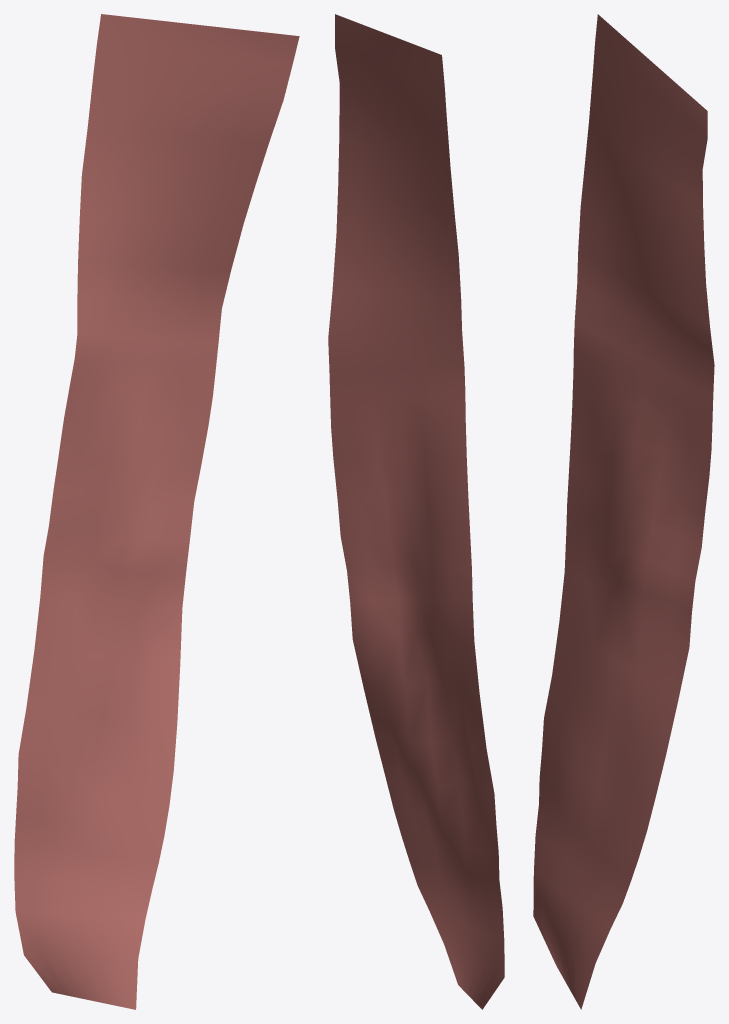
3 views of the same model, side by side, from view 1: azimuth 30°, elevation 25°; view 2: azimuth 150°, elevation 25°; view 3: azimuth 330°, elevation 25° (orthographic). The views are drawn at different scales.
Parts seen in each view (by area): view 1: ZA_0bb646aa8e1115d3; view 2: ZA_0bb646aa8e1115d3; view 3: ZA_0bb646aa8e1115d3.
Part boxes in pixels (x1=…): ZA_0bb646aa8e1115d3: x1=14, y1=14, x2=299, y2=1009; ZA_0bb646aa8e1115d3: x1=328, y1=14, x2=504, y2=1009; ZA_0bb646aa8e1115d3: x1=533, y1=14, x2=714, y2=1009.
Bounding box in the file's own units: 0.0347 × 0.1416 × 0.0153.
